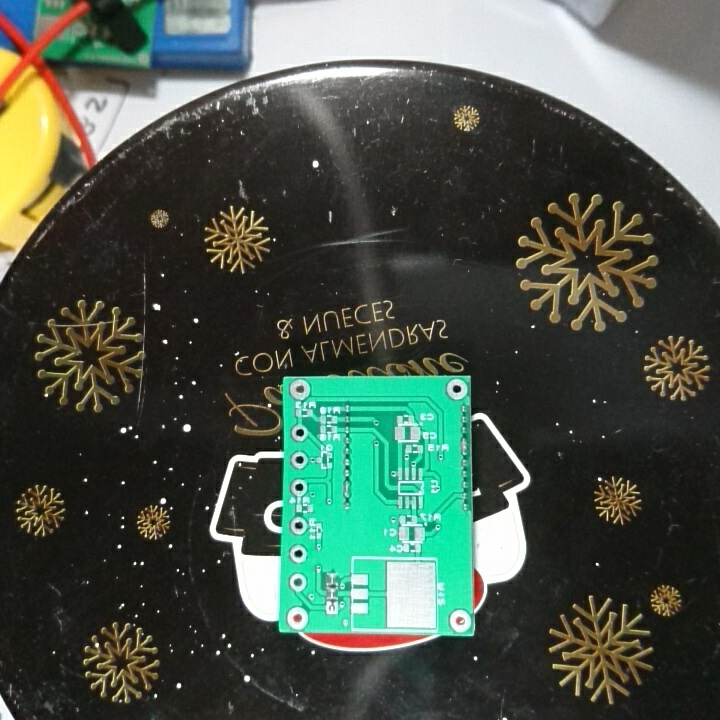F: (445, 606, 474, 635), (284, 603, 310, 631), (287, 378, 313, 403), (444, 378, 469, 402), (287, 513, 309, 540), (287, 475, 309, 498), (287, 542, 307, 566), (287, 569, 307, 593), (290, 450, 310, 470), (290, 422, 308, 443), (323, 599, 341, 617)
P: (457, 435, 473, 458), (341, 477, 354, 499)
